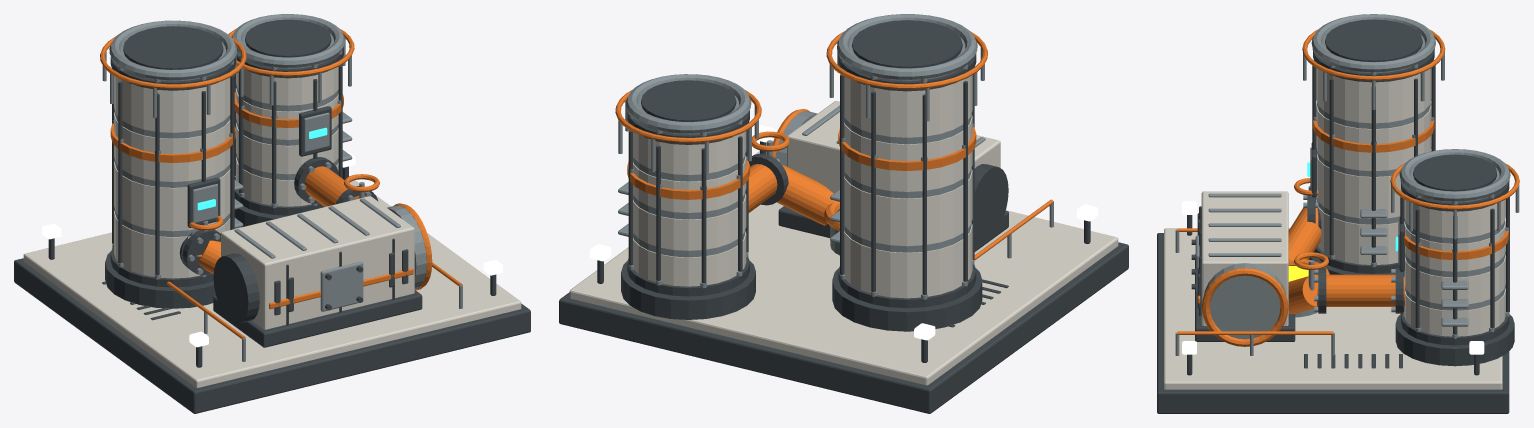
The model's file is SM_GeothermalPlant.fbx.
The picture shows the model from 3 angles, left to right: view 1: azimuth 30°, elevation 25°; view 2: azimuth 150°, elevation 25°; view 3: azimuth 270°, elevation 25°; orthographic projection. The views are drawn at different scales.
Parts seen in each view (by area): view 1: SM_GeothermalPlant.002; view 2: SM_GeothermalPlant.002; view 3: SM_GeothermalPlant.002.
Boxes of the visible parts, x1,y1,x2,y2 form: SM_GeothermalPlant.002: [14, 14, 530, 413]; SM_GeothermalPlant.002: [559, 14, 1128, 413]; SM_GeothermalPlant.002: [1157, 14, 1519, 413].
Bounding box in the file's own units: 280 × 268 × 211.
